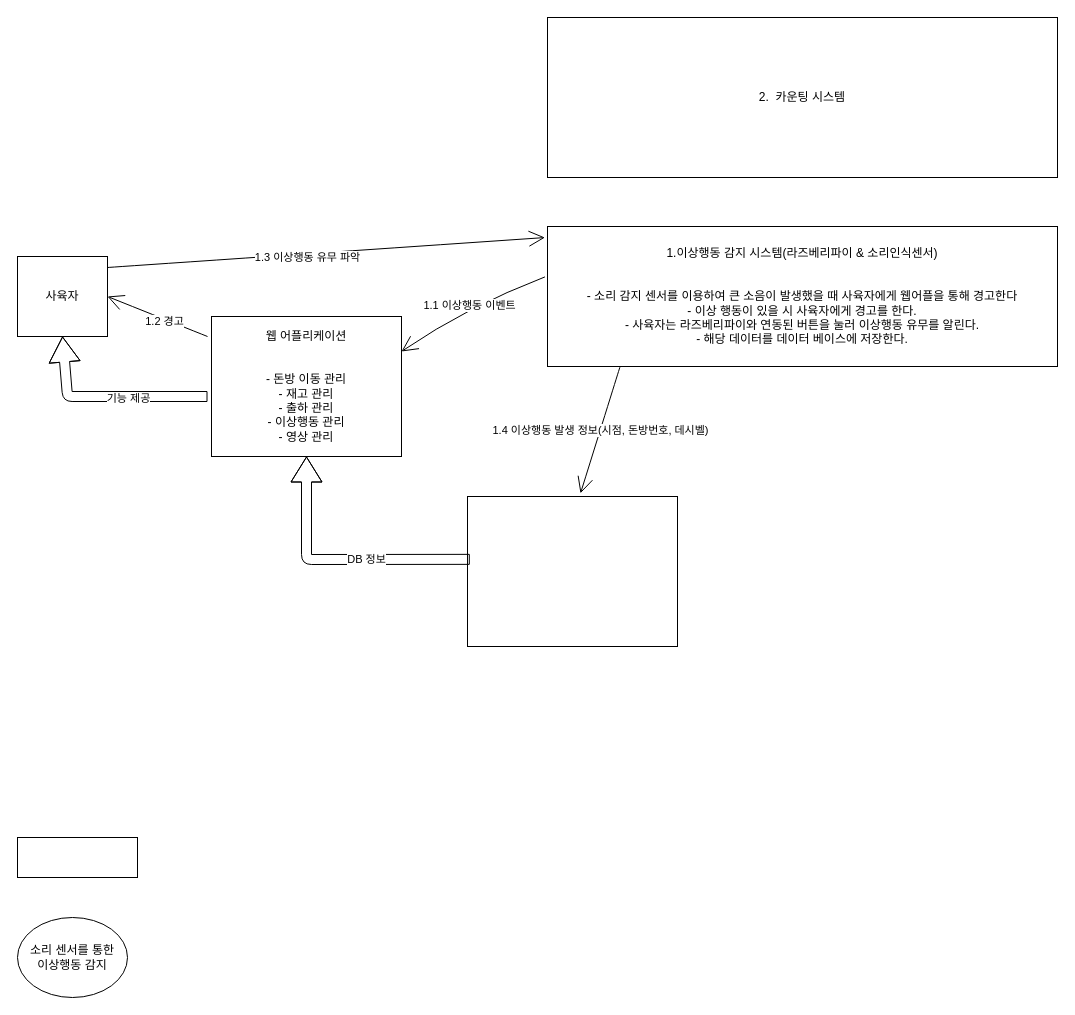
Some shapes in this 1075 by 1015 pixel diagram are drawn without their labels. The shapes that lost their labels are listed below. From the top down, each one's box as (x1, y1, x2, y2) in pixels, then its label:
(466, 496, 678, 646): 데이터베이스(Mysql) - 돈방간 돼지 이동정보 - 돈방내 돼지 두수 - 출하된는 돼지 두수 - 이상행동 정보 - 돈방 및 복도 영상
(16, 836, 138, 878): 이상행동 정보
